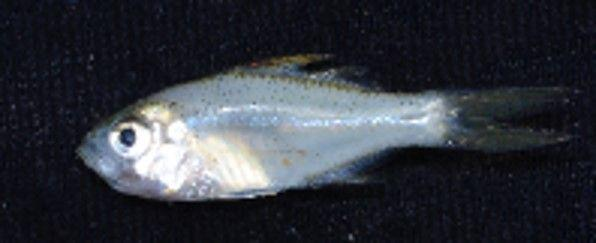Glass Perchlet: (76, 51, 578, 202)
